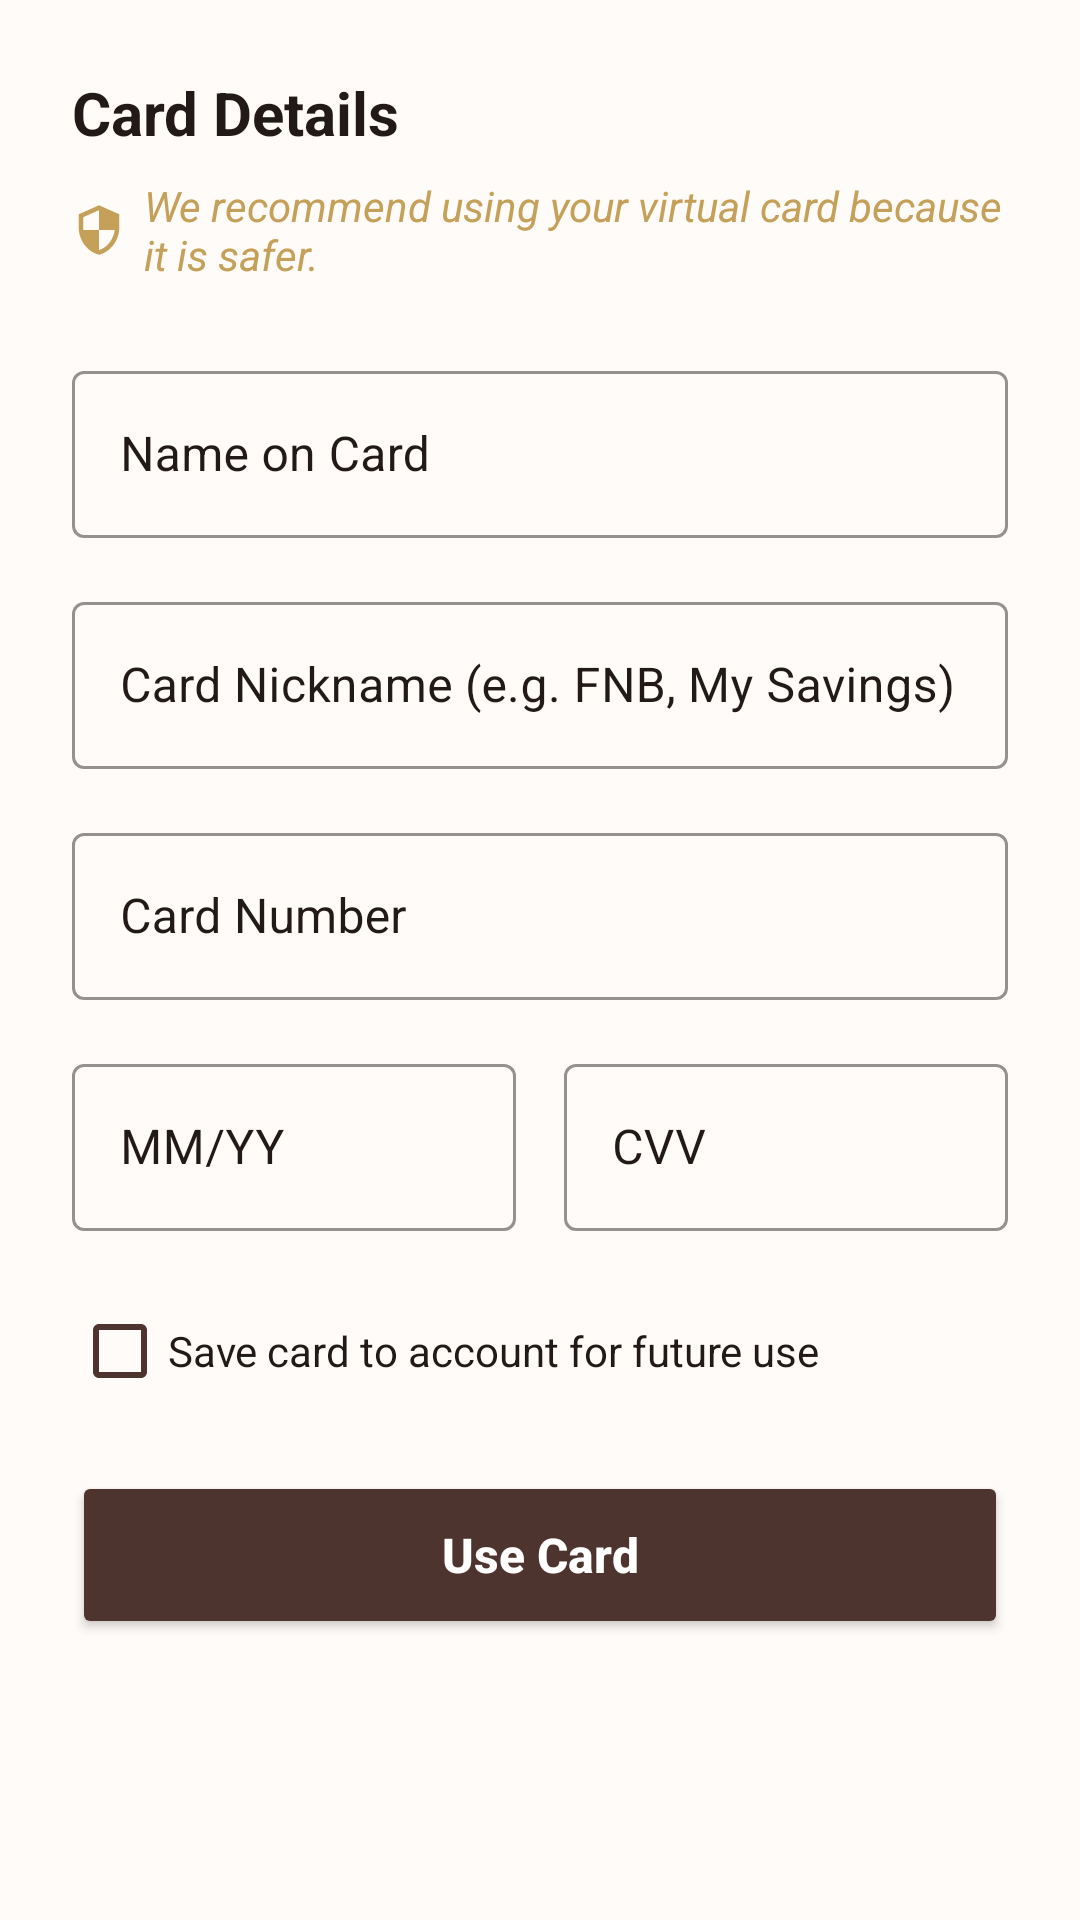

Named icons in this screenshot (1080*1920) and their centers, point (x, y):
security: point (99, 230)
